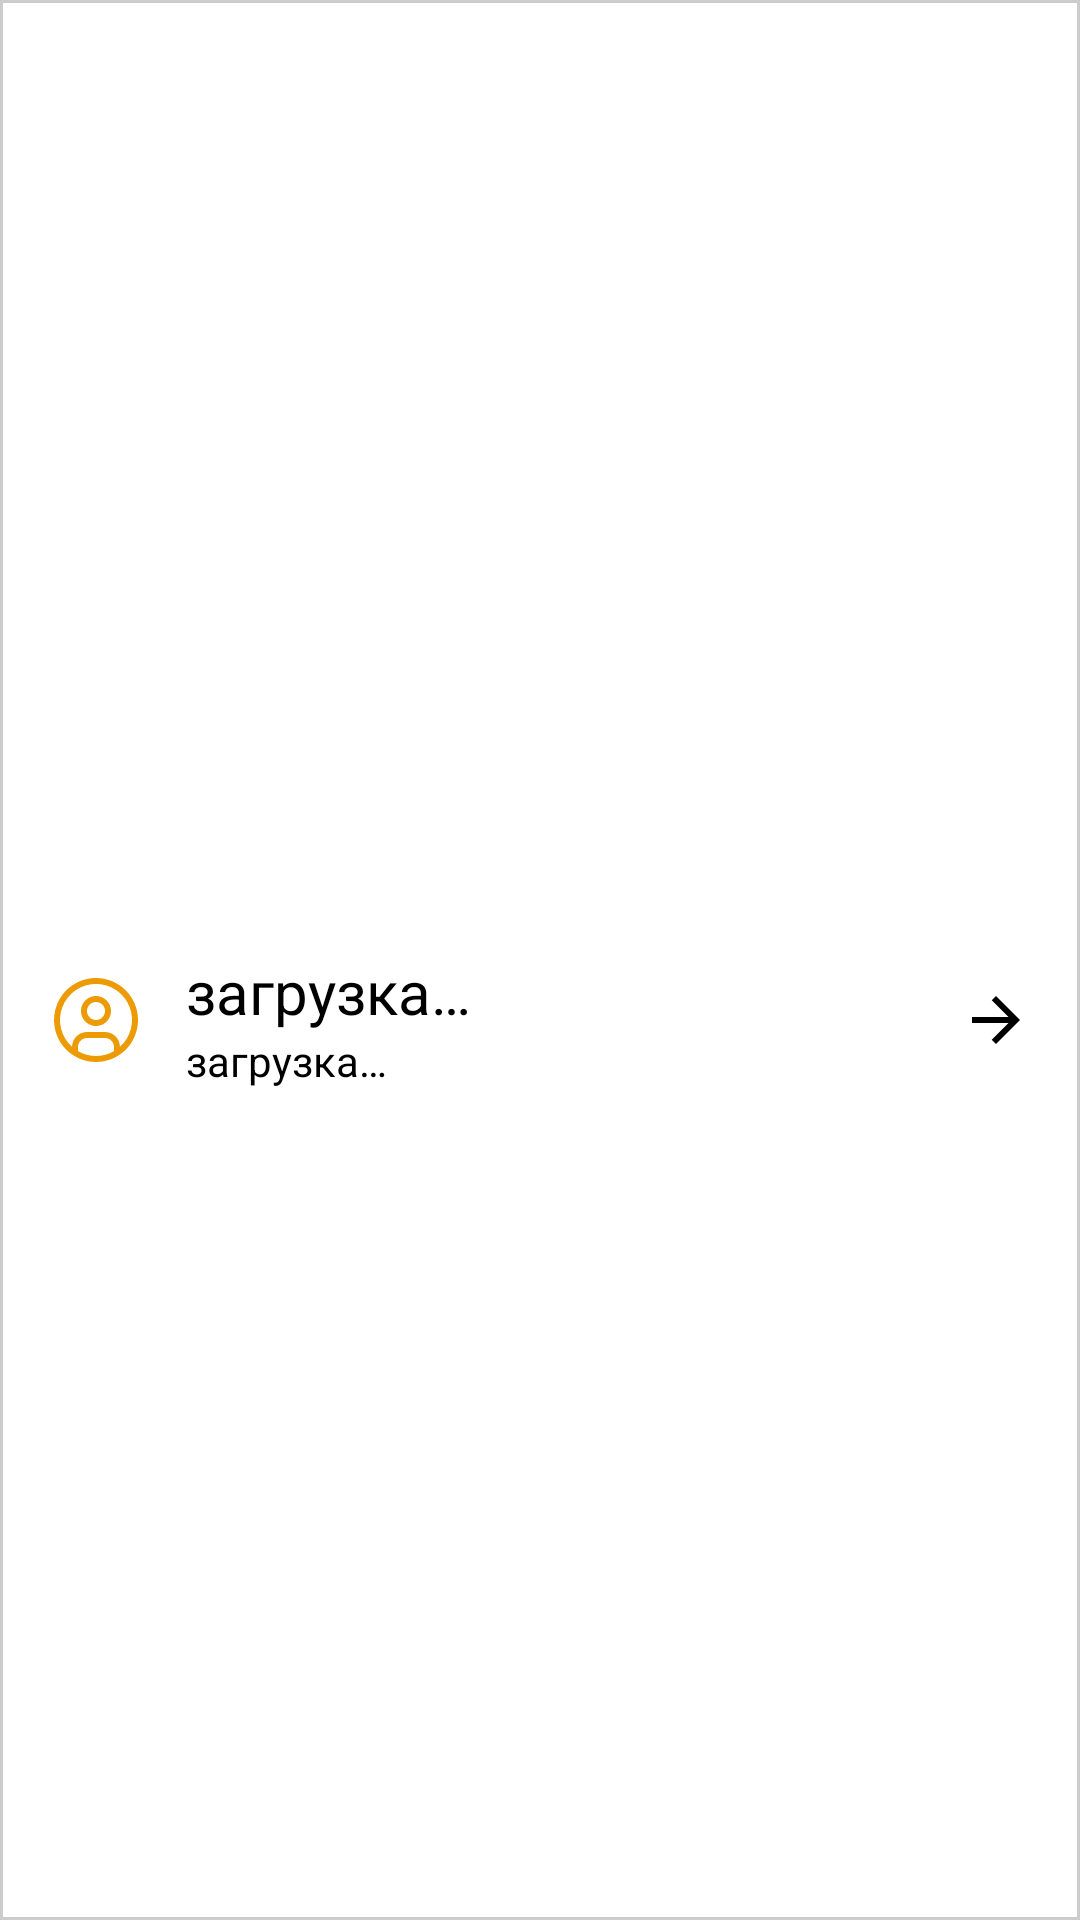

Locate icon controls on the screen. Image size 1080px×1920px, boxes as {"left": x1, "top": y1, "right": x2, "bottom": y2}.
carbon user: {"left": 54, "top": 978, "right": 138, "bottom": 1062}
